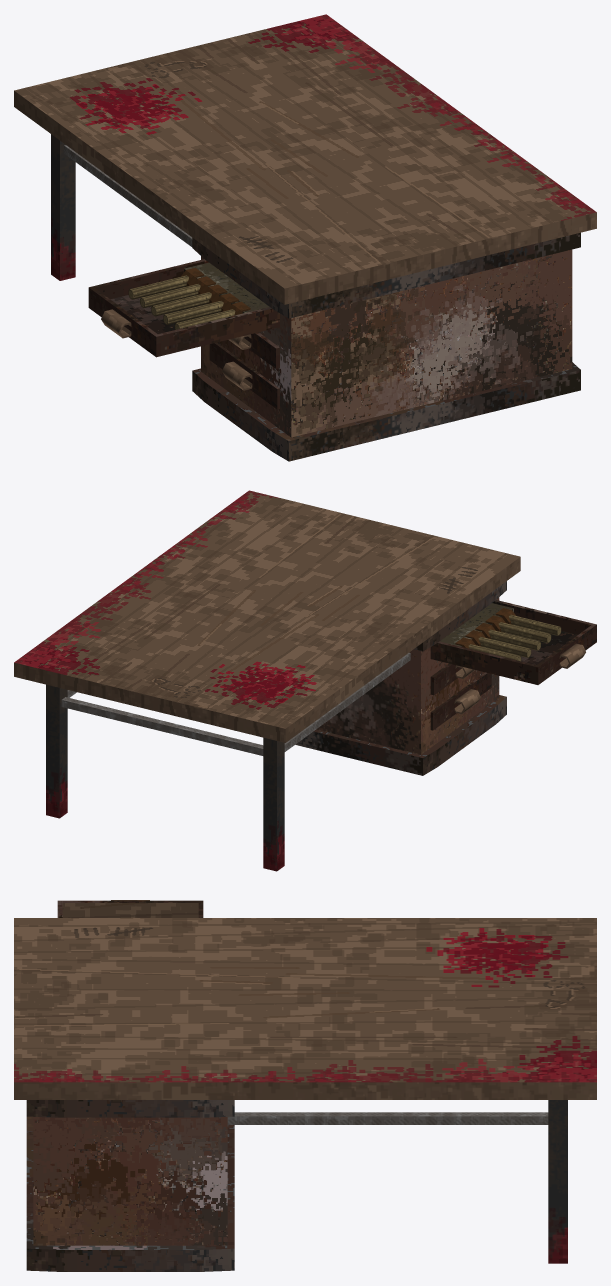
The model's file is Table.FBX.
3 views of the same model, one above another, from view 1: azimuth 30°, elevation 25°; view 2: azimuth 150°, elevation 25°; view 3: azimuth 270°, elevation 25° (orthographic). The views are drawn at different scales.
Visible parts, largest first — view 1: Table, Box007, Box009, LeverBox, Box008, Lever3, Lever1, Lever4, Lever2, Lever5; view 2: Table, Box007, Box009, LeverBox, Box008, Lever4, Lever2, Lever5, Lever3; view 3: Table, Box007.
Boxes of the visible parts, x1=… form: Table: x1=14, y1=14, x2=596, y2=461; Box007: x1=88, y1=259, x2=279, y2=357; Box009: x1=209, y1=342, x2=279, y2=409; LeverBox: x1=184, y1=262, x2=269, y2=313; Box008: x1=228, y1=332, x2=279, y2=368; Lever3: x1=151, y1=284, x2=227, y2=316; Lever1: x1=128, y1=268, x2=204, y2=299; Lever4: x1=163, y1=293, x2=238, y2=324; Lever2: x1=140, y1=276, x2=215, y2=307; Lever5: x1=175, y1=301, x2=250, y2=329; Table: x1=14, y1=490, x2=520, y2=871; Box007: x1=430, y1=600, x2=596, y2=684; Box009: x1=430, y1=672, x2=491, y2=730; LeverBox: x1=440, y1=603, x2=513, y2=646; Box008: x1=430, y1=663, x2=474, y2=695; Lever4: x1=485, y1=615, x2=551, y2=643; Lever2: x1=465, y1=630, x2=531, y2=657; Lever5: x1=495, y1=608, x2=561, y2=635; Lever3: x1=475, y1=623, x2=540, y2=650; Table: x1=14, y1=918, x2=596, y2=1271; Box007: x1=57, y1=900, x2=203, y2=917.
Bounding box in the file's own units: 27.72 × 11 × 30.
Materials: 3 (3 with a texture image).
